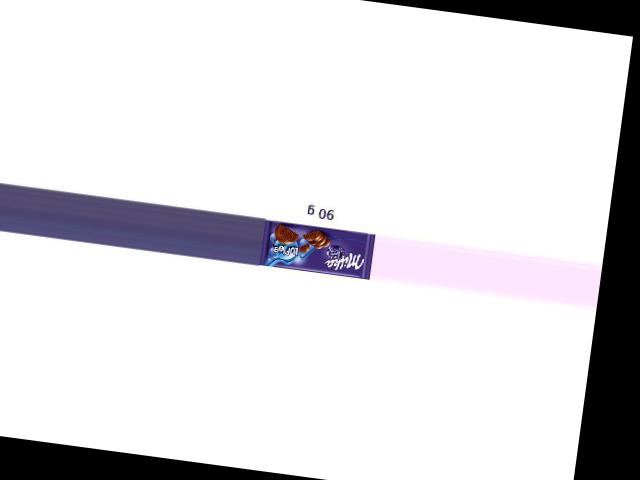chocolate: (258, 219, 373, 279)
